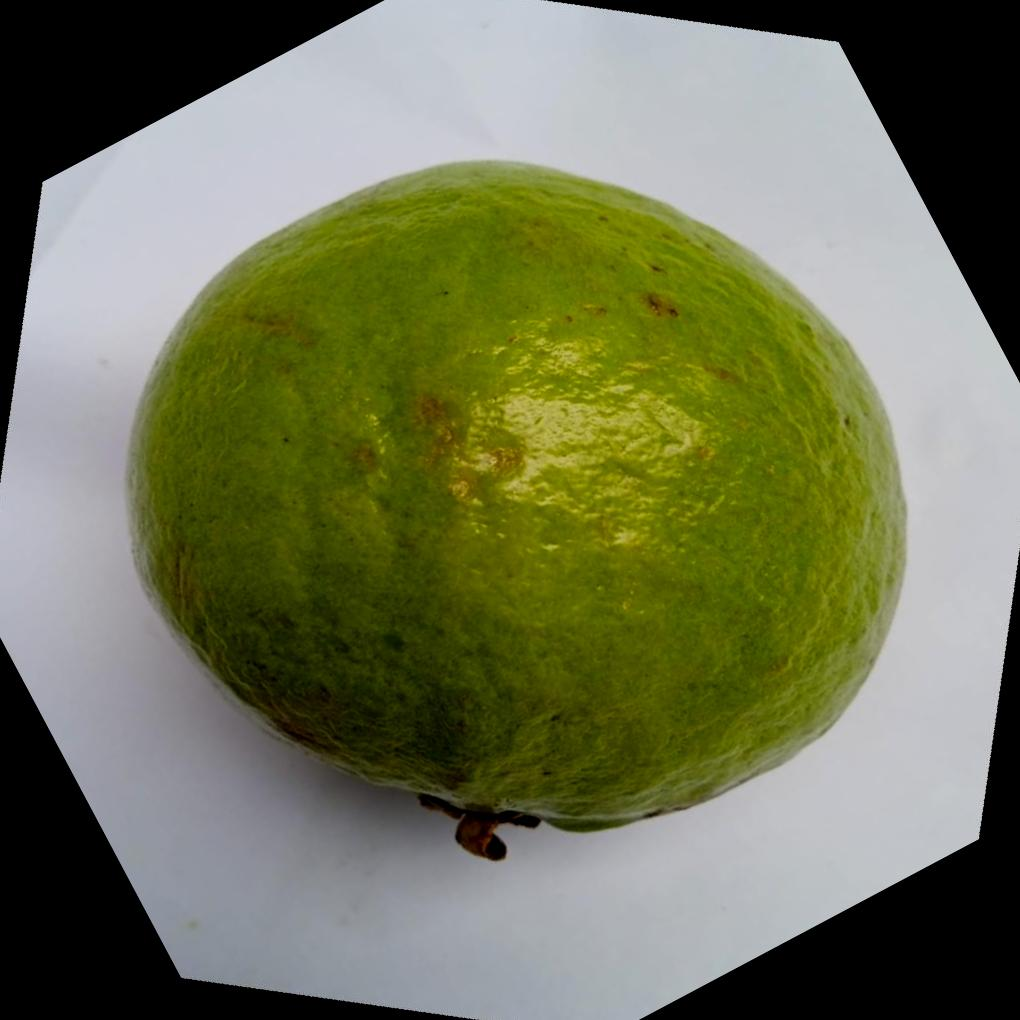FreshGuava: (123, 157, 911, 858)
